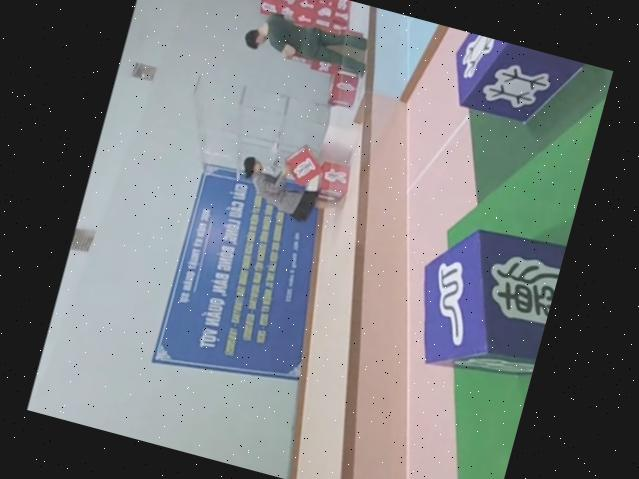R2 Fake Blue: (402, 213, 566, 392)
R2 Real Blue: (445, 30, 587, 133)
